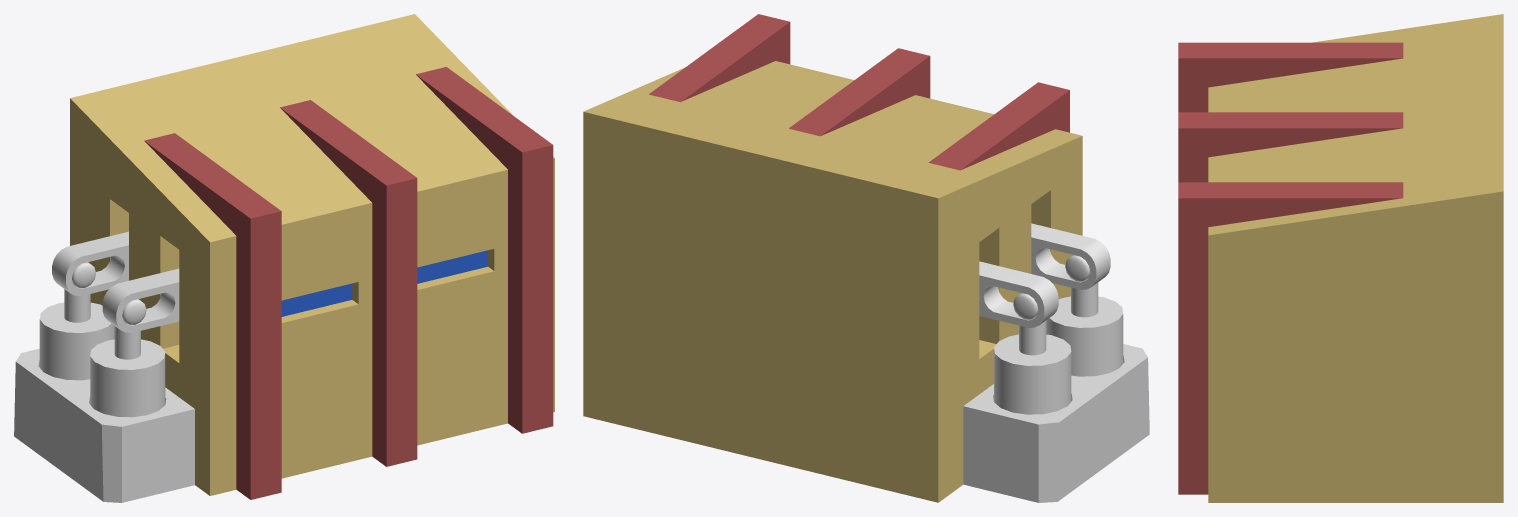
File: Building_6.FBX
3 renders of one model, left to right at view 1: azimuth 30°, elevation 25°; view 2: azimuth 150°, elevation 25°; view 3: azimuth 270°, elevation 25°, orthographic. The views are drawn at different scales.
Parts seen in each view (by area): view 1: Box001, Box004, Box002, Box003, Box005, Cylinder002, Cylinder005, Cylinder003, Cylinder004; view 2: Box001, Box005, Cylinder005, Box002, Box004, Box003, Cylinder002, Cylinder004, Cylinder003; view 3: Box001, Box004, Box003, Box002.
Part boxes in pixels (bbox=[...]): Box001: bbox=[70, 14, 554, 495]; Box004: bbox=[416, 67, 553, 433]; Box002: bbox=[280, 100, 417, 466]; Box003: bbox=[144, 133, 281, 499]; Box005: bbox=[14, 348, 194, 502]; Cylinder002: bbox=[90, 321, 165, 417]; Cylinder005: bbox=[39, 284, 114, 380]; Cylinder003: bbox=[102, 268, 179, 332]; Cylinder004: bbox=[52, 231, 128, 296]; Box001: bbox=[583, 61, 1082, 502]; Box005: bbox=[963, 344, 1149, 502]; Cylinder005: bbox=[994, 315, 1071, 414]; Box002: bbox=[789, 48, 930, 136]; Box004: bbox=[649, 14, 790, 102]; Box003: bbox=[928, 82, 1069, 170]; Cylinder002: bbox=[1046, 277, 1123, 376]; Cylinder004: bbox=[979, 261, 1058, 327]; Cylinder003: bbox=[1031, 223, 1110, 289]; Box001: bbox=[1208, 14, 1503, 502]; Box004: bbox=[1178, 182, 1403, 494]; Box003: bbox=[1178, 42, 1403, 112]; Box002: bbox=[1178, 112, 1403, 182].
Bounding box in the file's own units: 88.8 × 58.22 × 55.07.
